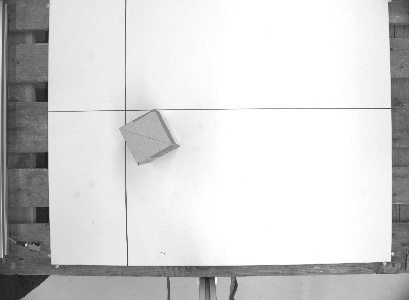b4: (118, 105, 182, 168)
